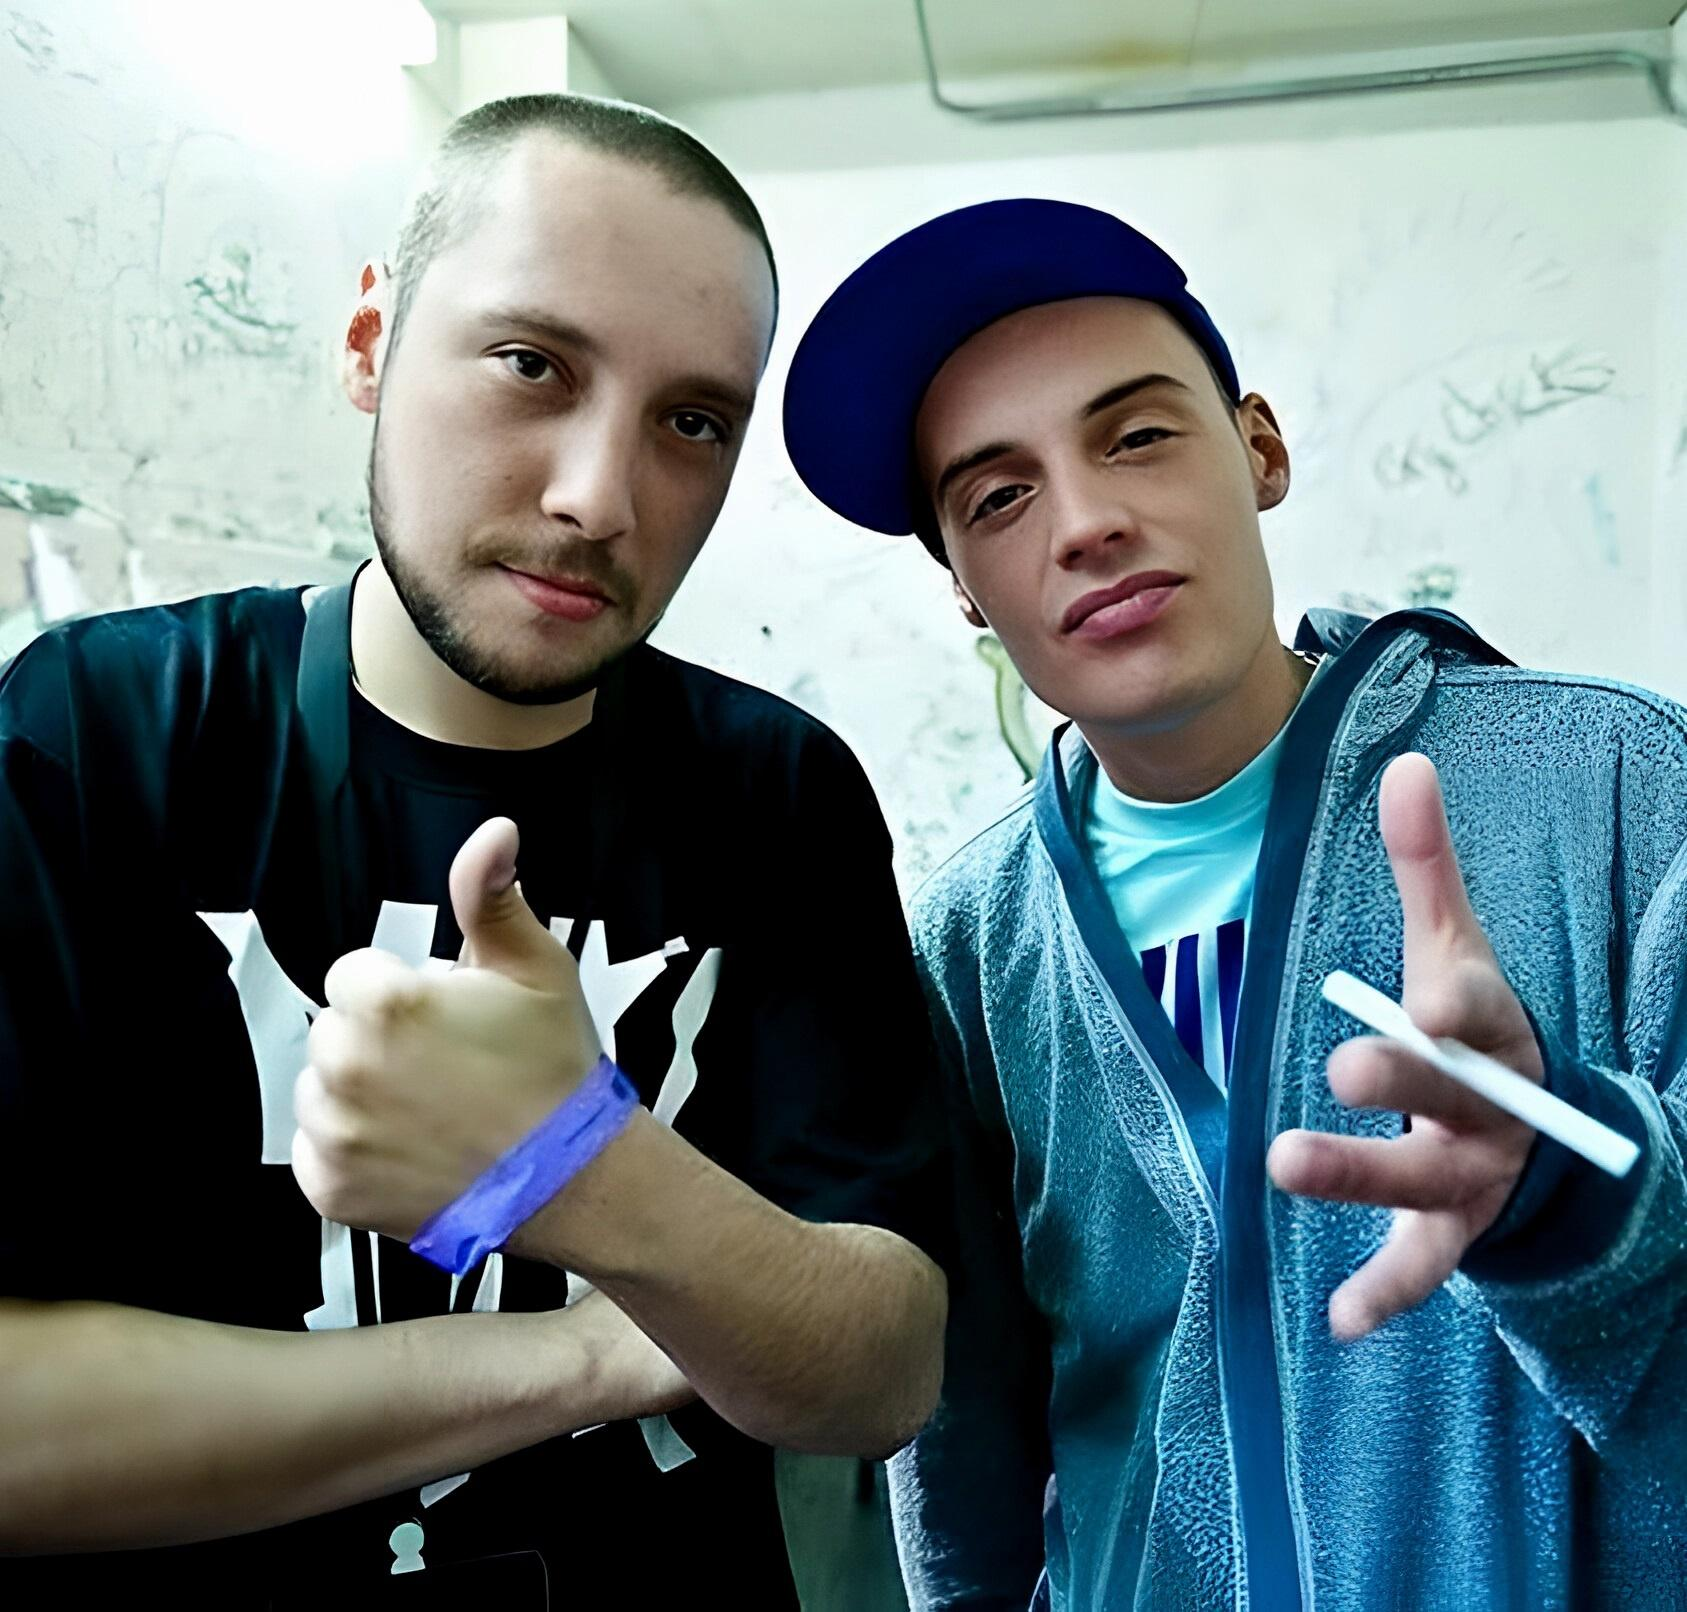cigarette: (1318, 970, 1640, 1180)
